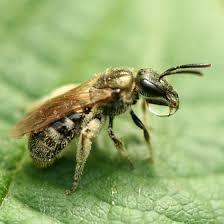Lasioglossum: (17, 53, 215, 189)
